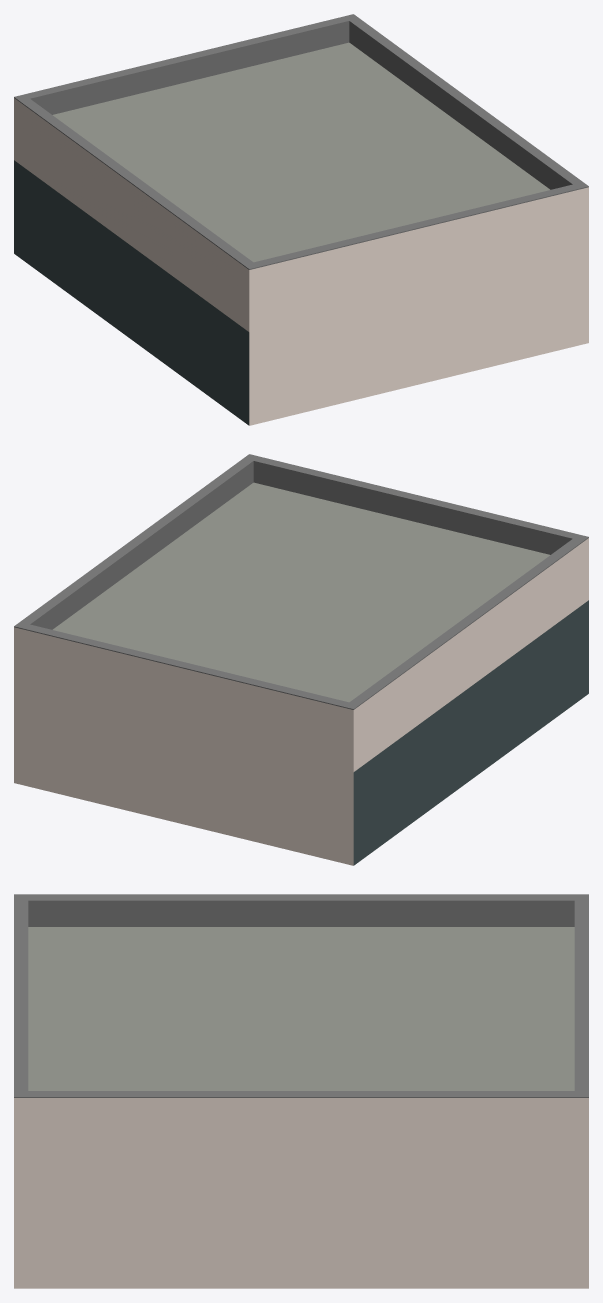
Rendered from far.fbx.
3 renders of one model, top to bottom at view 1: azimuth 30°, elevation 25°; view 2: azimuth 150°, elevation 25°; view 3: azimuth 270°, elevation 25°, orthographic. The views are drawn at different scales.
Visible parts, largest first — view 1: a2003/0/far; view 2: a2003/0/far; view 3: a2003/0/far.
Part boxes in pixels (x1,y1,x2,y2): a2003/0/far: (14,14,588,425); a2003/0/far: (14,454,588,865); a2003/0/far: (14,894,588,1288).
Bounding box in the file's own units: 10 × 4.41 × 12.
